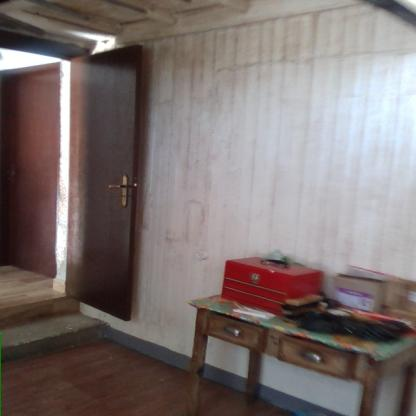open: (2, 35, 159, 351)
